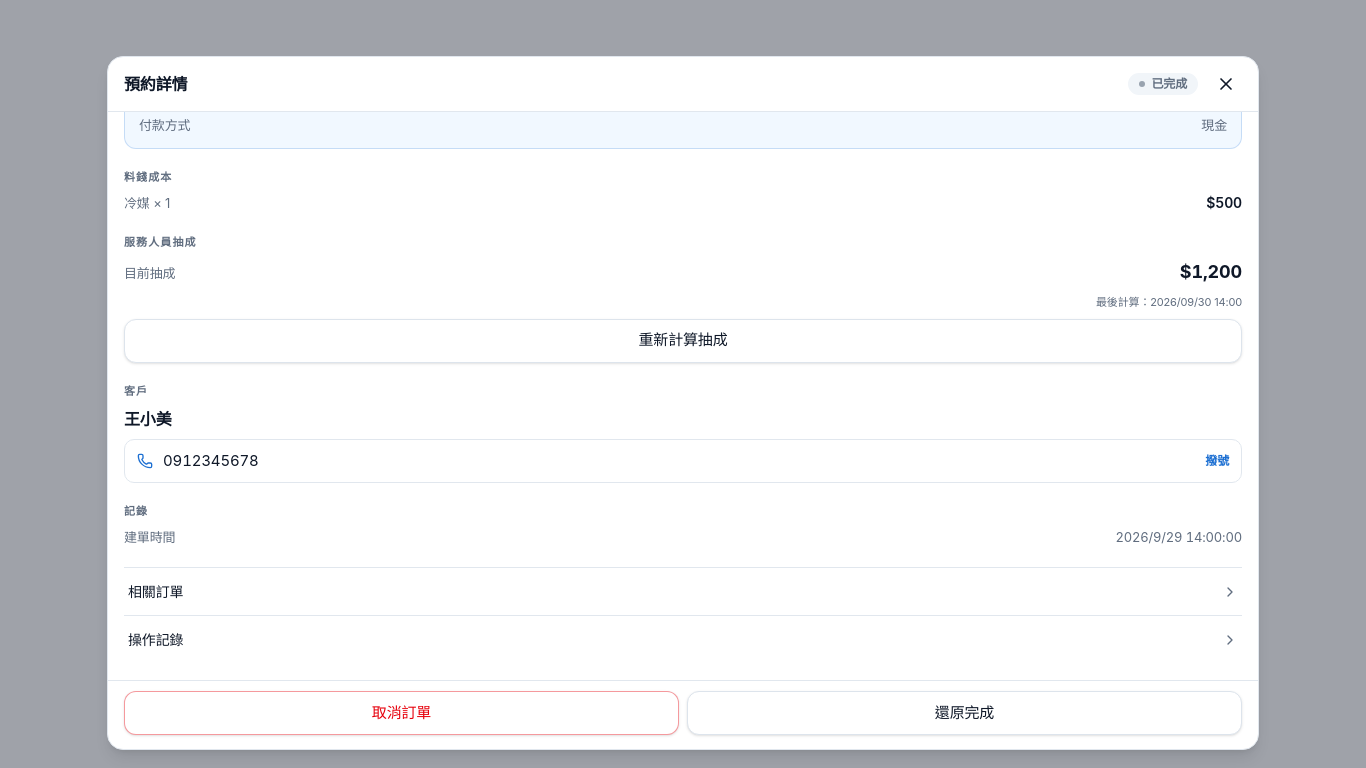
it: K-4 誰看得到 › ③ 切去看相關訂單(不是原本那一筆)⇒ 不出現
The image size is (1366, 768).
(page scrolled)
Check: the element with test id "booking-commission-section" is shown, box [124, 258, 1242, 362]
What coordinates should you click on to do the following:
click the button "相關訂單"
I would click on:
 (156, 591)
Its box is [124, 568, 1242, 616].
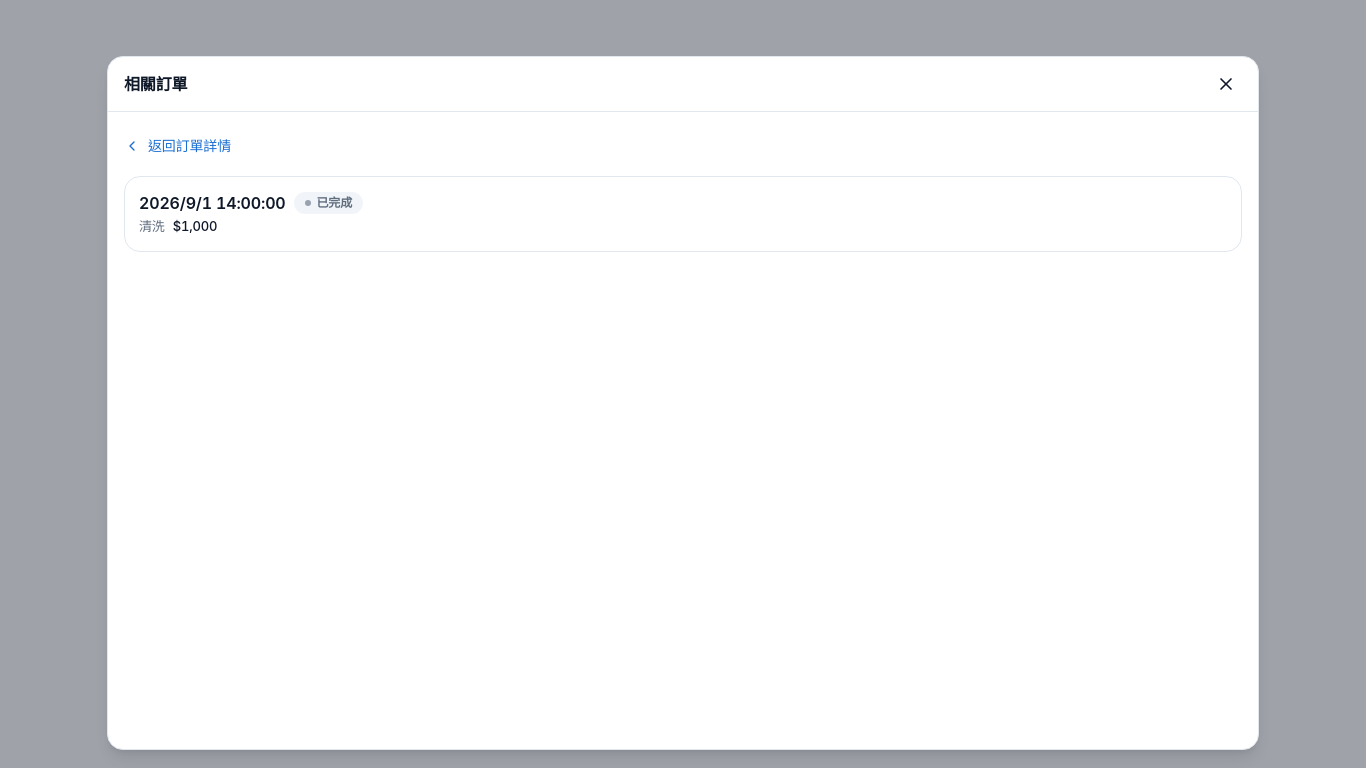
What coordinates should you click on to do the following:
click the button "2026/9/1 14:00:00 已完成 清洗$1,000"
I would click on:
 (212, 203)
Its box is [124, 176, 1242, 252].
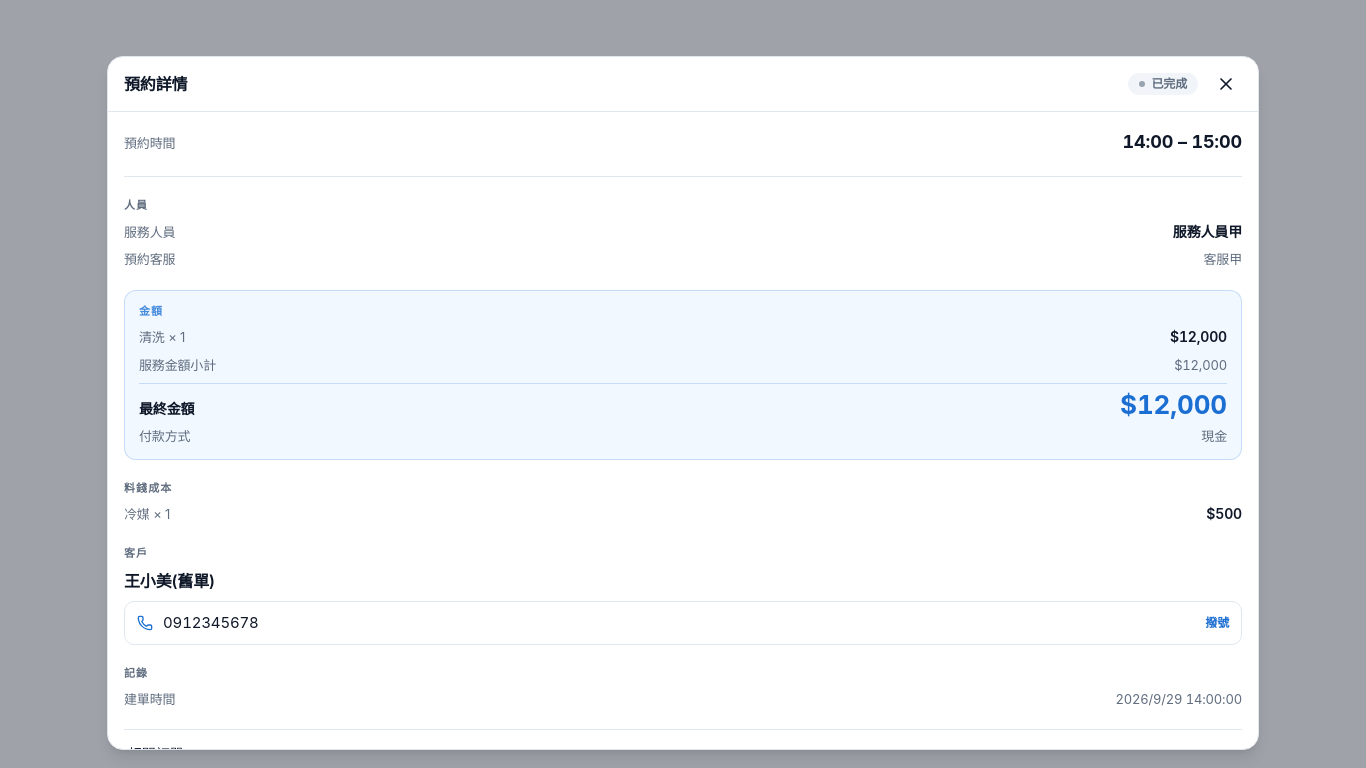
Check: the text "王小美(舊單)" is shown, box [124, 571, 215, 591]
